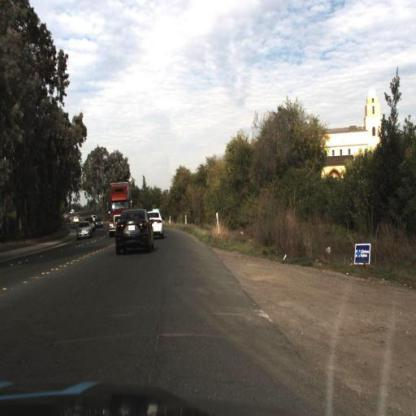car: (114, 207, 154, 253), (142, 200, 172, 244), (150, 208, 166, 240), (76, 222, 90, 239)
truck: (107, 180, 132, 240)
